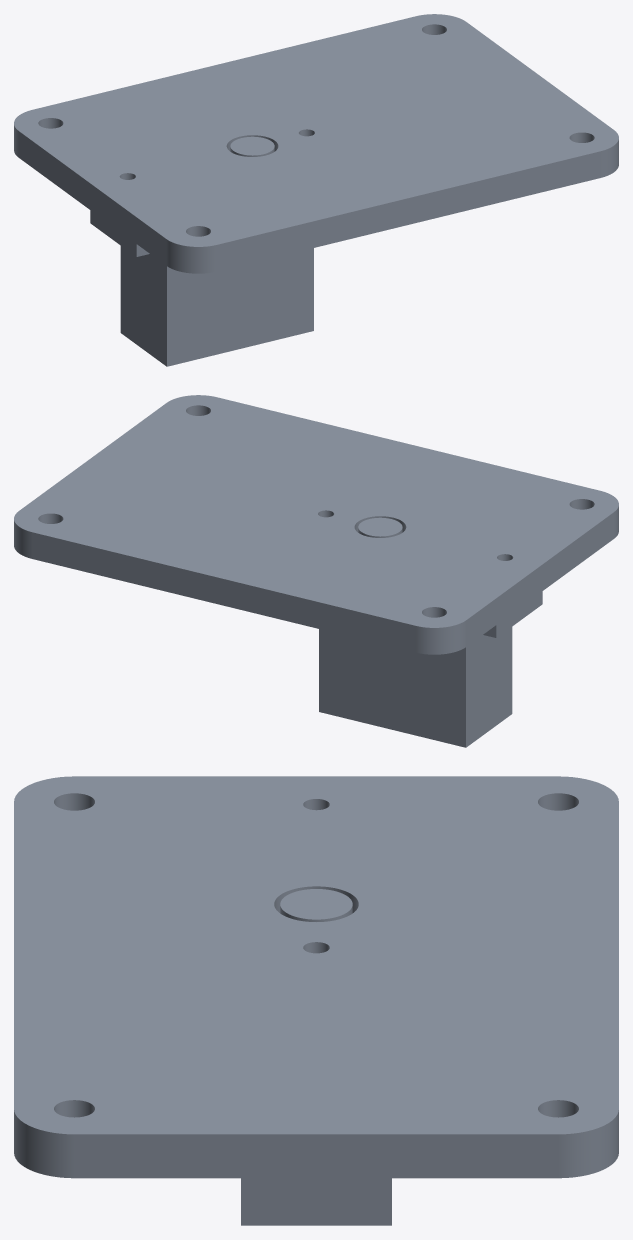
Rendered from step-2-preview-2.glb.
3 views of the same model, one above another, from view 1: azimuth 30°, elevation 25°; view 2: azimuth 150°, elevation 25°; view 3: azimuth 270°, elevation 25° (orthographic). The views are drawn at different scales.
Visible parts, largest first — view 1: preview_4, preview_18, preview_5, preview_30, preview_0, preview_1, preview_32, preview_17, preview_7; view 2: preview_4, preview_20, preview_6, preview_30, preview_0, preview_2, preview_32, preview_17, preview_8; view 3: preview_4, preview_9, preview_28, preview_7, preview_8, preview_32.
Boxes of the visible parts, x1,y1,x2,y2 form: preview_4: (14, 14, 618, 246); preview_18: (136, 244, 313, 366); preview_5: (217, 151, 600, 271); preview_30: (120, 246, 166, 366); preview_0: (19, 131, 166, 265); preview_1: (166, 239, 216, 273); preview_32: (230, 136, 274, 155); preview_17: (90, 210, 136, 256); preview_7: (600, 139, 618, 177); preview_4: (14, 395, 618, 627); preview_20: (319, 625, 496, 747); preview_6: (32, 532, 415, 652); preview_30: (466, 627, 512, 747); preview_0: (466, 512, 613, 646); preview_2: (416, 620, 466, 654); preview_32: (358, 517, 402, 536); preview_17: (496, 591, 542, 637); preview_8: (14, 520, 32, 558); preview_4: (14, 776, 618, 1134); preview_9: (74, 1134, 558, 1178); preview_28: (241, 1178, 391, 1225); preview_7: (14, 1110, 74, 1178); preview_8: (558, 1110, 618, 1178); preview_32: (280, 889, 352, 919).
Bounding box in the file's own units: 0.07 × 0.0265 × 0.05.
